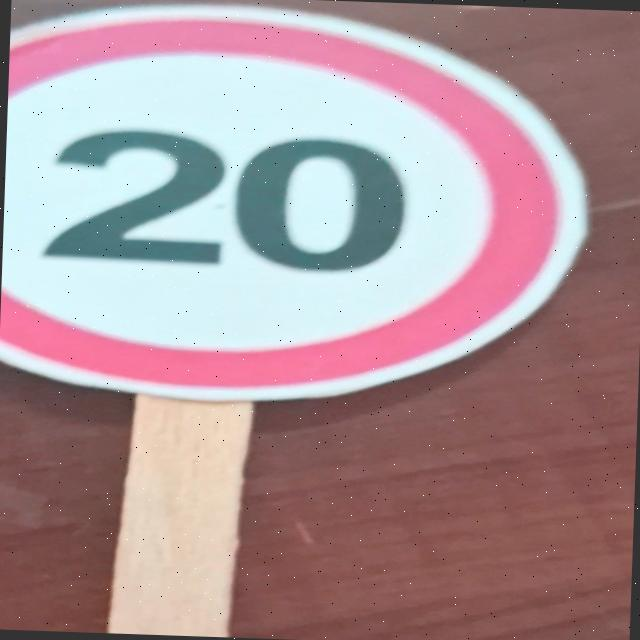Speed20: (0, 0, 599, 433)
